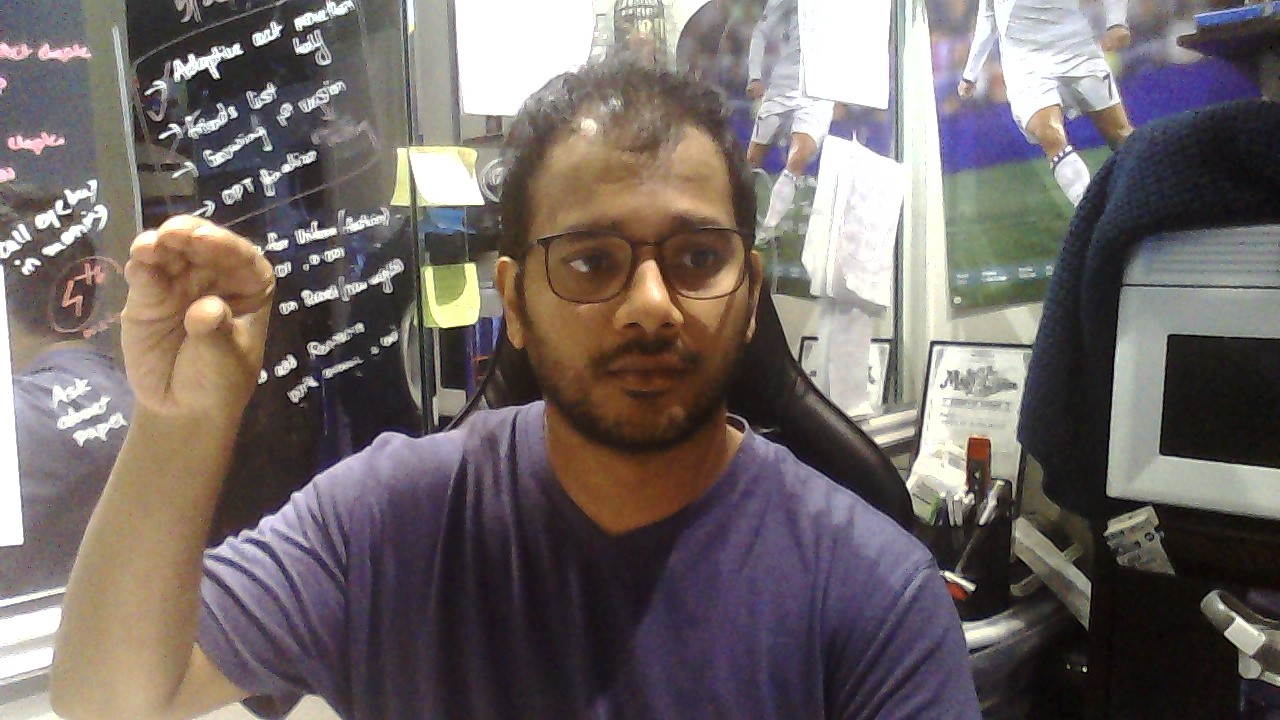No: (122, 214, 277, 421)
